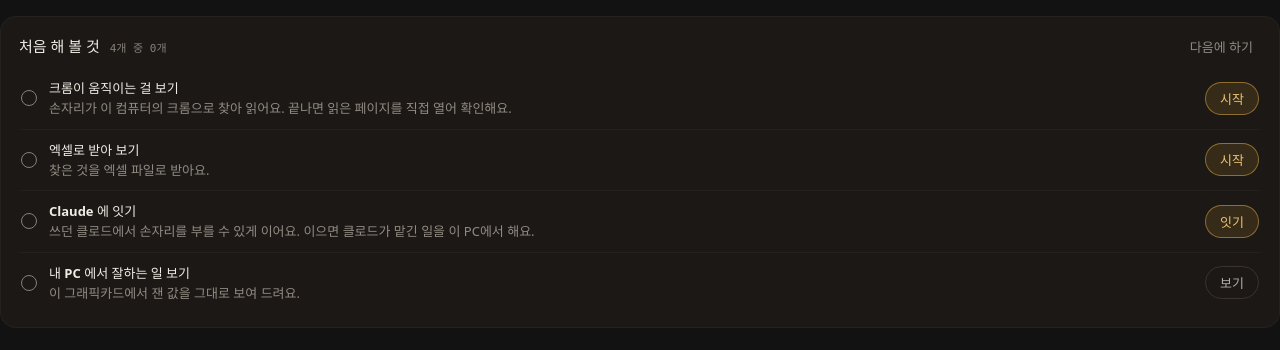
Test: 퀘스트 ③ — 클로드에게 맡겨 보기 › 클로드 칸은 연결 여부와 상관없이 보인다 — 안 이어졌으면 「Claude 에 잇기」, 이어졌으면 「클로드에게 맡겨 보기」
Expected: the list item that starts with "Claude 에 잇기" is shown, top-left (49, 202), bottom-right (136, 220)
Expected: the text "클로드에게 맡겨 보기" is not shown
Click the button "잇기".
click(1232, 221)  # box top-left (1205, 205), bottom-right (1259, 238)
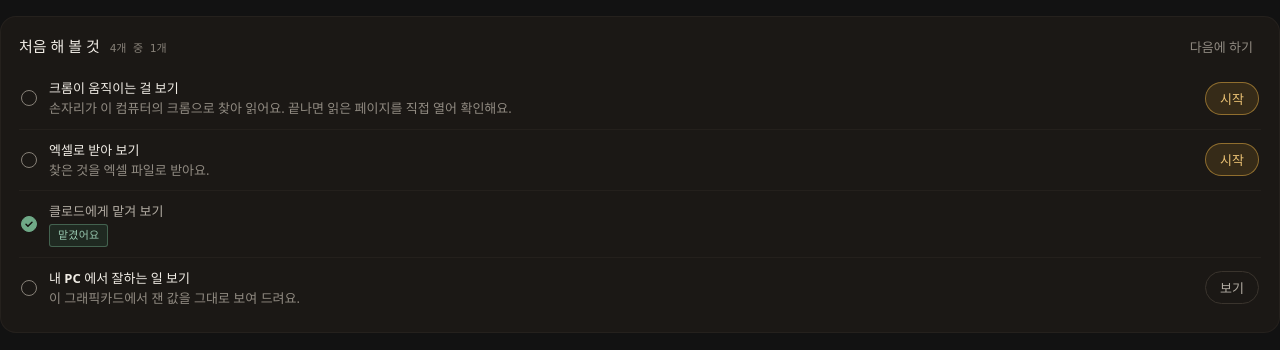
Now the list item "클로드에게 맡겨 보기 맡겼어요" is shown, box top-left (19, 190), bottom-right (1261, 256)
Now the button "잇기" is gone
Now the text "Claude 에 잇기" is gone
